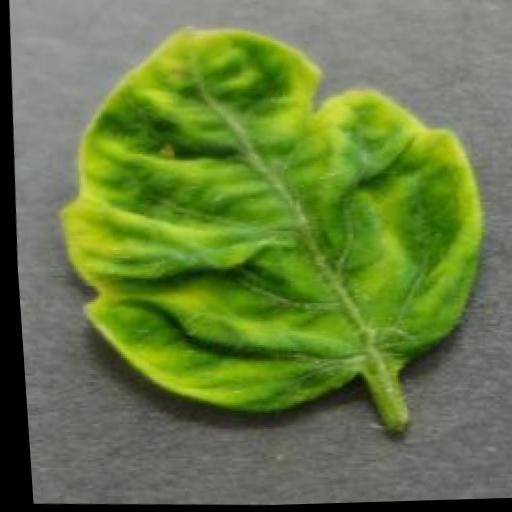Yellow Leaf Curl Virus: (37, 16, 497, 423)
